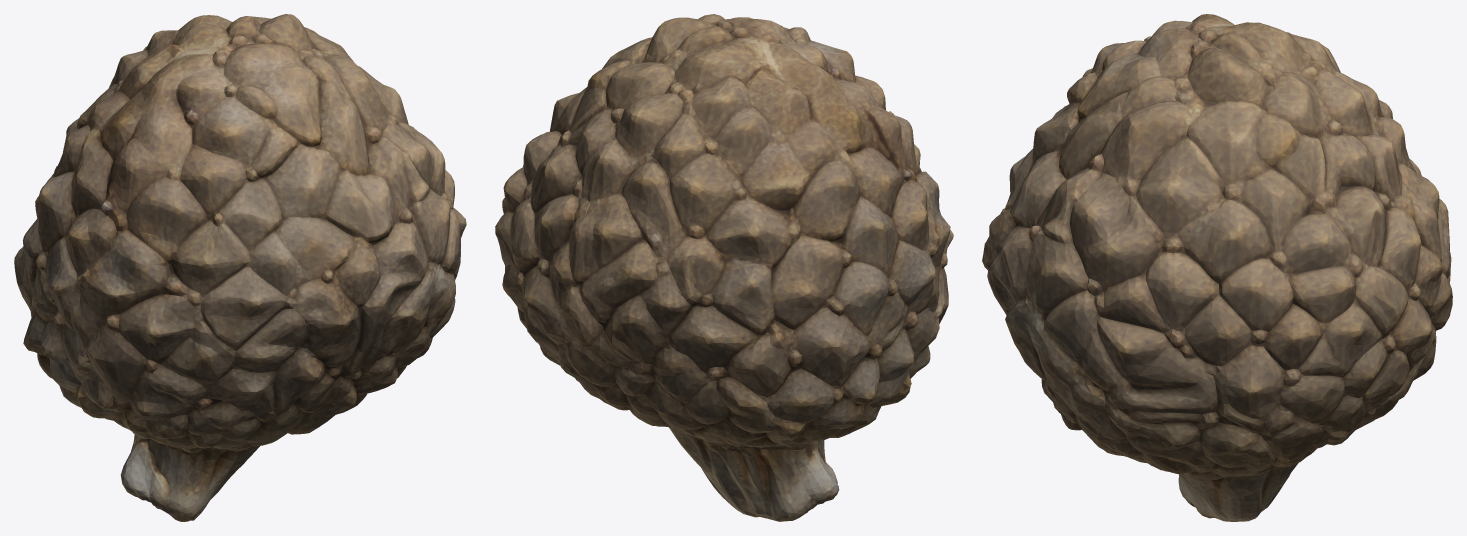
The picture shows the model from 3 angles, left to right: view 1: azimuth 30°, elevation 25°; view 2: azimuth 150°, elevation 25°; view 3: azimuth 270°, elevation 25°; orthographic projection. The views are drawn at different scales.
Visible parts, largest first — view 1: geometry_0; view 2: geometry_0; view 3: geometry_0.
Part boxes in pixels (x1,y1,x2,y2): geometry_0: [14, 14, 466, 521]; geometry_0: [495, 14, 953, 521]; geometry_0: [982, 14, 1452, 521].
Size of the model in its own units: 0.0829 by 0.096 by 0.0792.
1 material, 1 textured.
